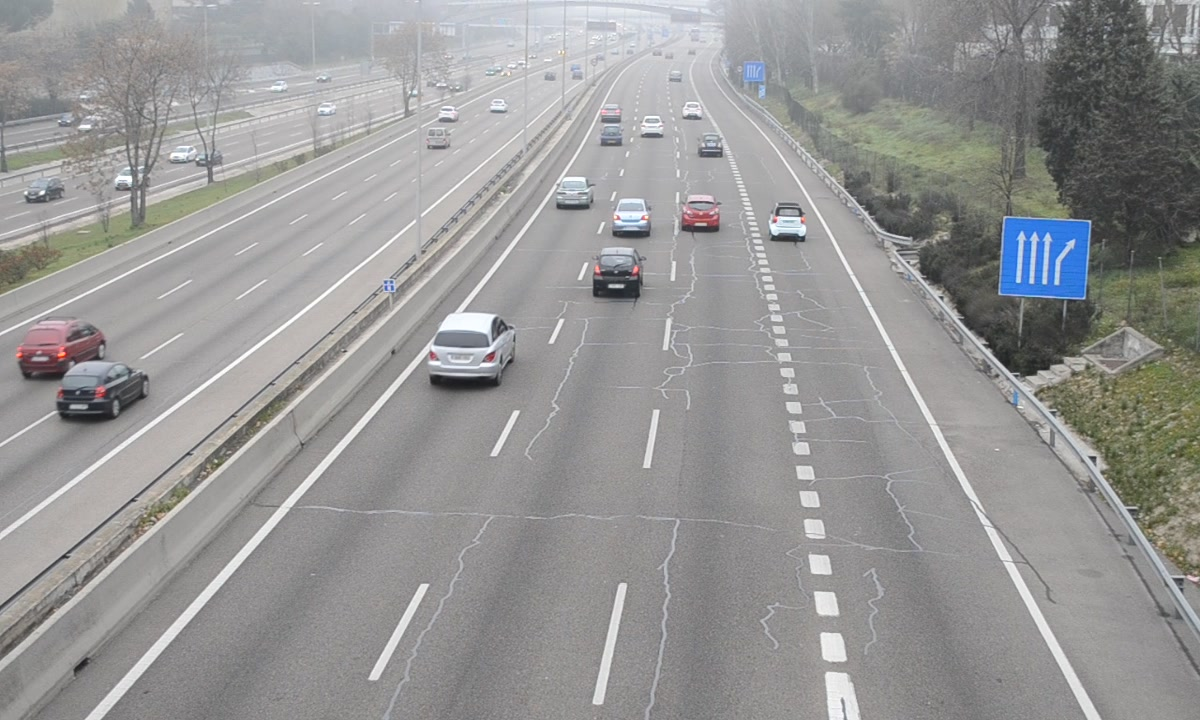car: (426, 313, 516, 383), (592, 246, 644, 301), (612, 198, 652, 238), (682, 194, 723, 233), (769, 202, 807, 243), (554, 175, 596, 210), (697, 133, 724, 159), (639, 113, 666, 138), (598, 125, 623, 148)
